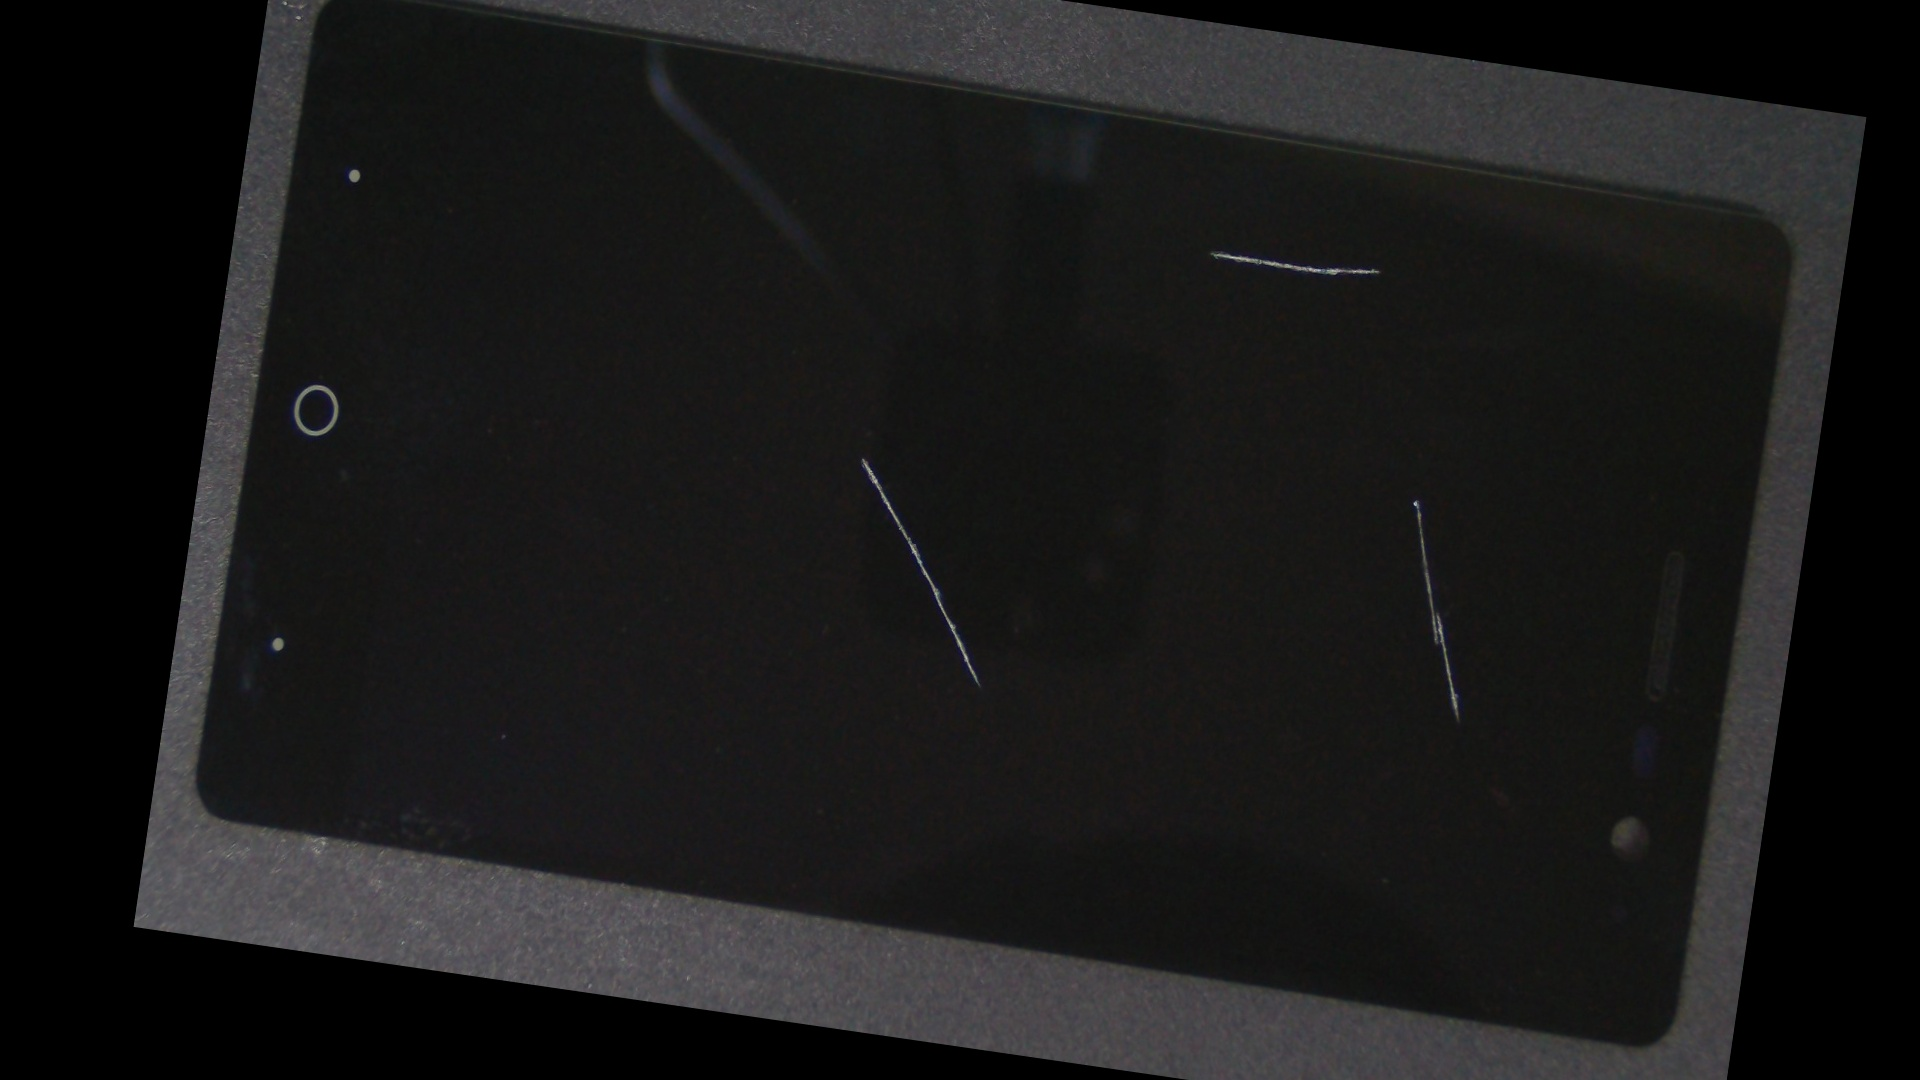oil: (789, 191, 1836, 775), (504, 171, 1220, 742), (798, 78, 1850, 444)
